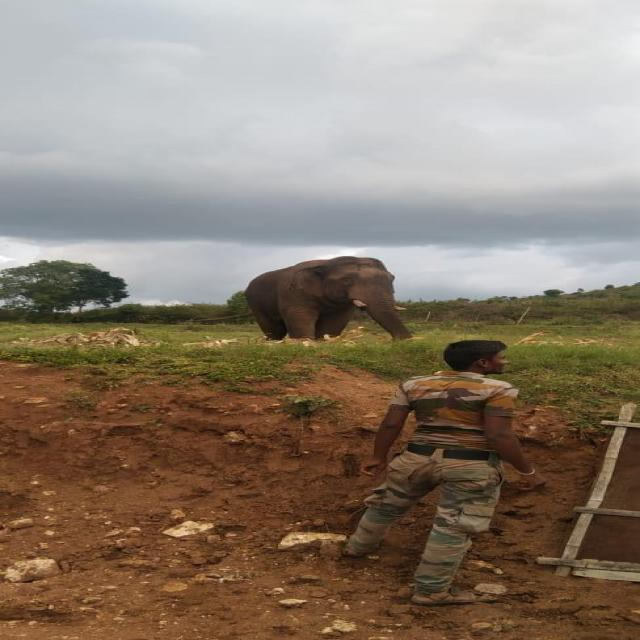Elephant: (244, 256, 414, 342)
